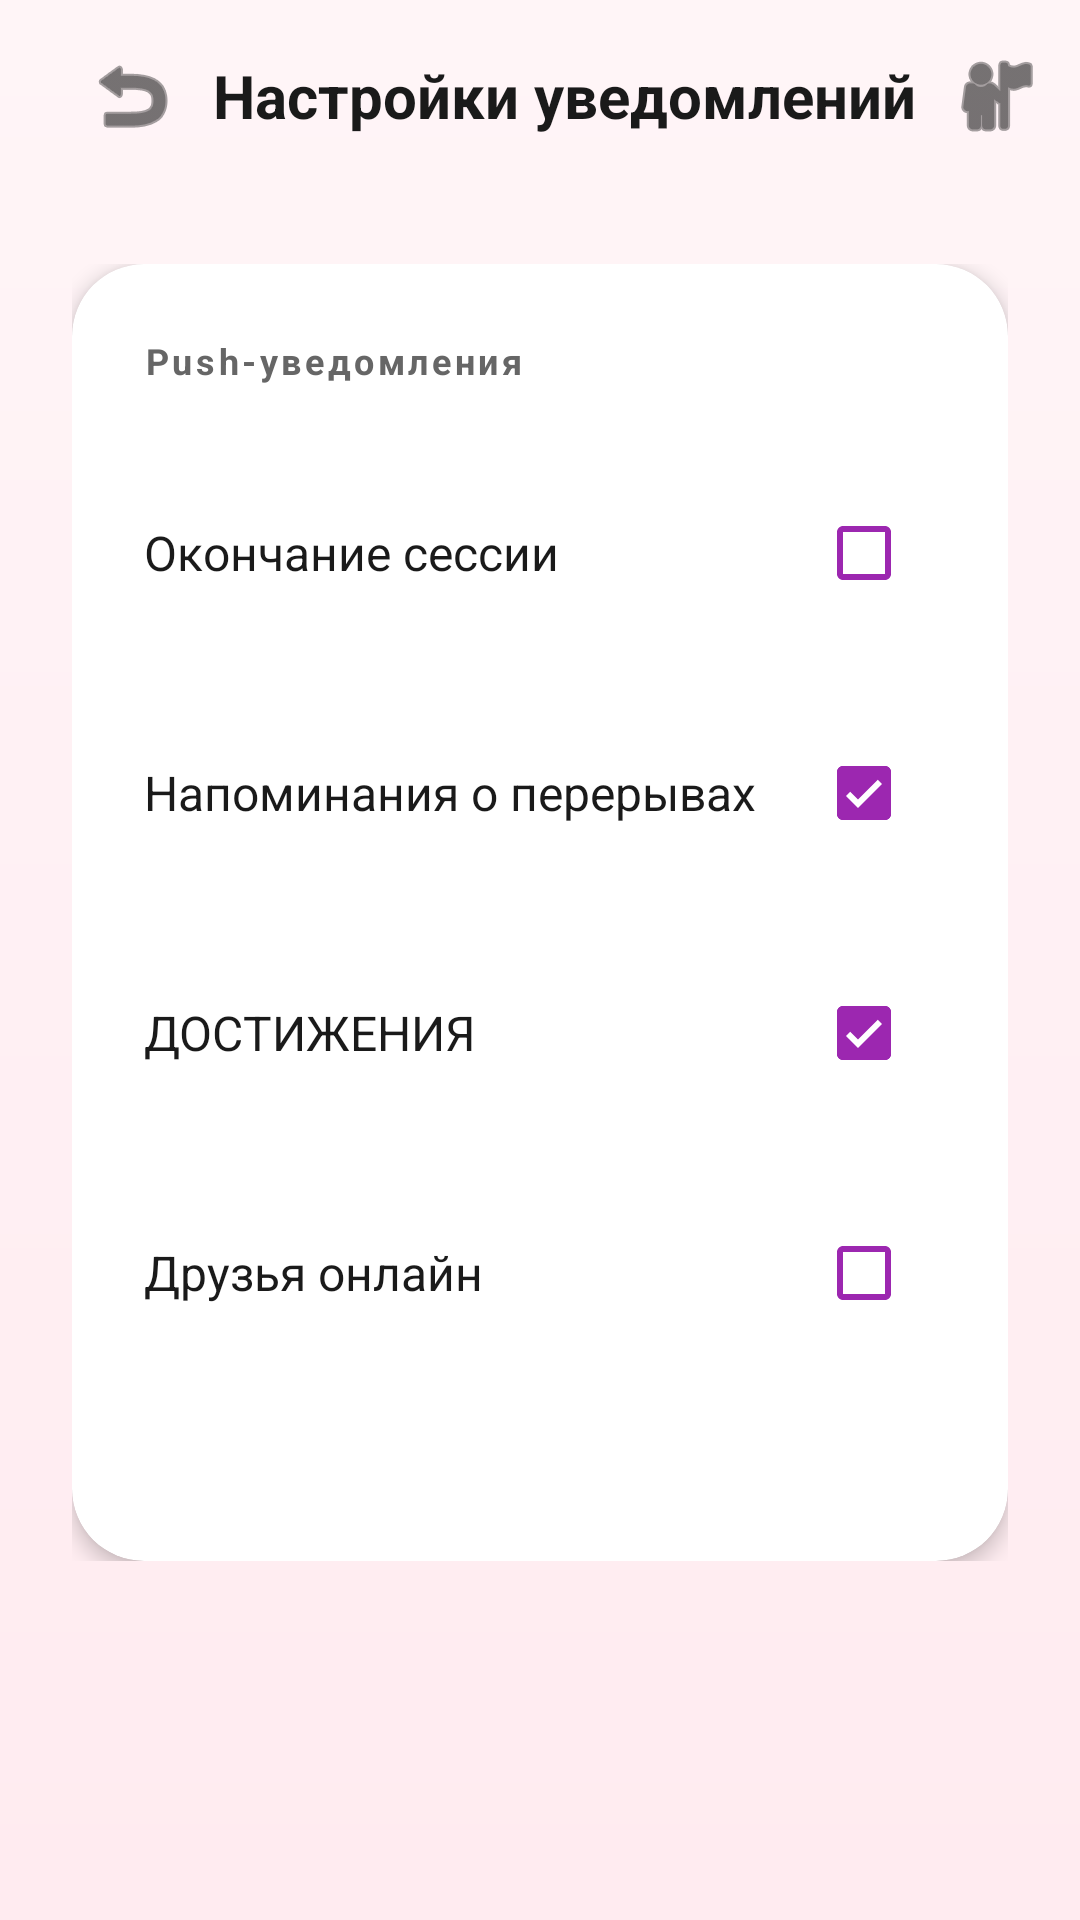

Named icons in this screenshot (1080*1920) and their bounding boxes, (left=x1, top=y1, right=x2, bottom=y2):
Back: (left=99, top=65, right=168, bottom=128)
myplaces: (left=961, top=60, right=1033, bottom=132)
